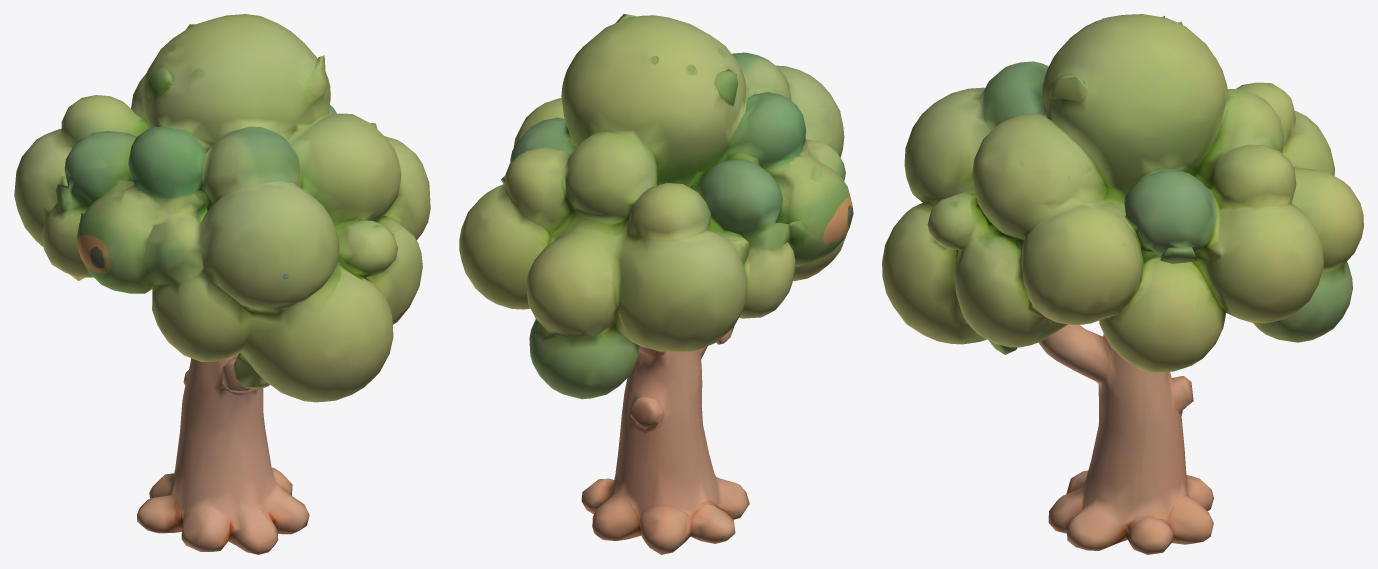
Rendered from tree.glb.
3 views of the same model, side by side, from view 1: azimuth 30°, elevation 25°; view 2: azimuth 150°, elevation 25°; view 3: azimuth 270°, elevation 25° (orthographic). The views are drawn at different scales.
Visible parts, largest first — view 1: tripo_node_35a8a148-b19a-4402-bfee-810e85fbbb36; view 2: tripo_node_35a8a148-b19a-4402-bfee-810e85fbbb36; view 3: tripo_node_35a8a148-b19a-4402-bfee-810e85fbbb36.
Boxes of the visible parts, x1=… form: tripo_node_35a8a148-b19a-4402-bfee-810e85fbbb36: x1=14, y1=14, x2=430, y2=554; tripo_node_35a8a148-b19a-4402-bfee-810e85fbbb36: x1=459, y1=14, x2=853, y2=554; tripo_node_35a8a148-b19a-4402-bfee-810e85fbbb36: x1=882, y1=14, x2=1363, y2=554.
Bounding box in the file's own units: 0.2066 × 0.3 × 0.2542.
1 material, 1 textured.
